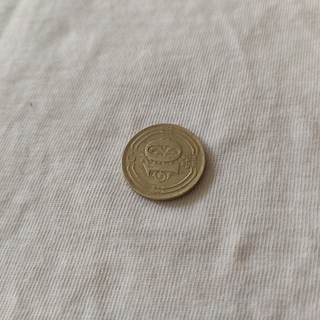10KURUS: (119, 122, 208, 202)
